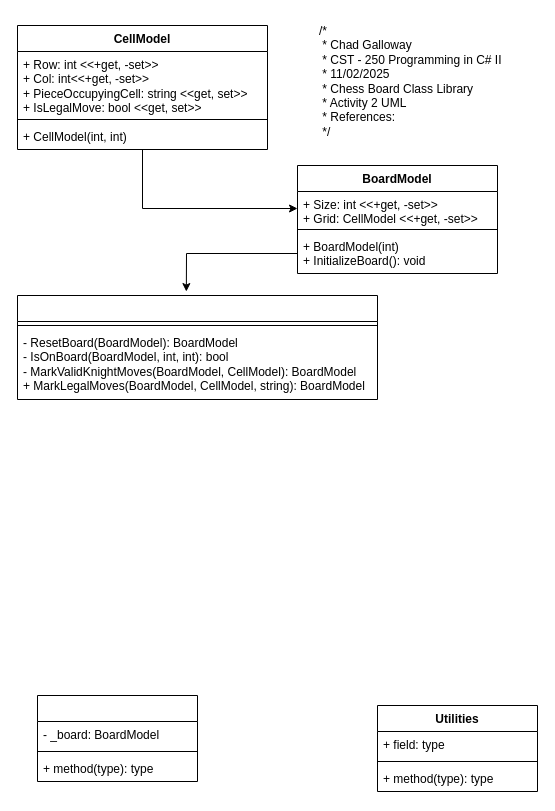
Image size: 555x811. Some labels were removed from this diagram. Each missing label, with the box of its shape:
BoardLogic: (16, 294, 378, 400)
FrmChessBoard: (36, 694, 198, 782)
